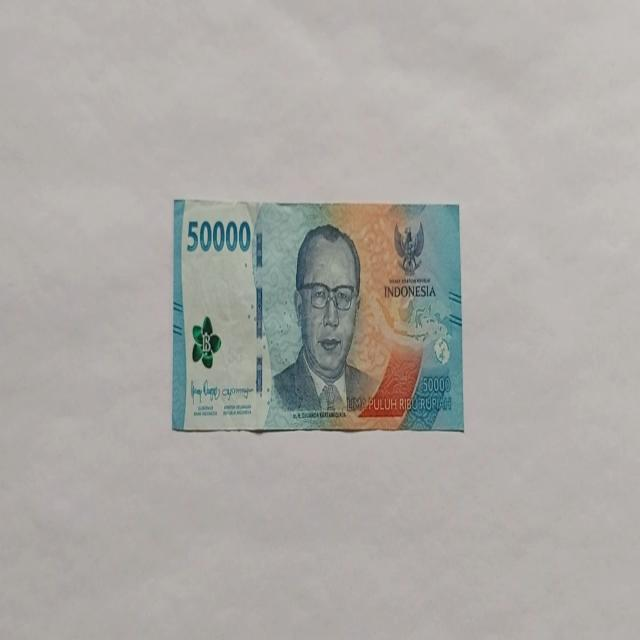lima puluh ribu rupiah: (170, 196, 464, 434), (264, 222, 382, 426)
